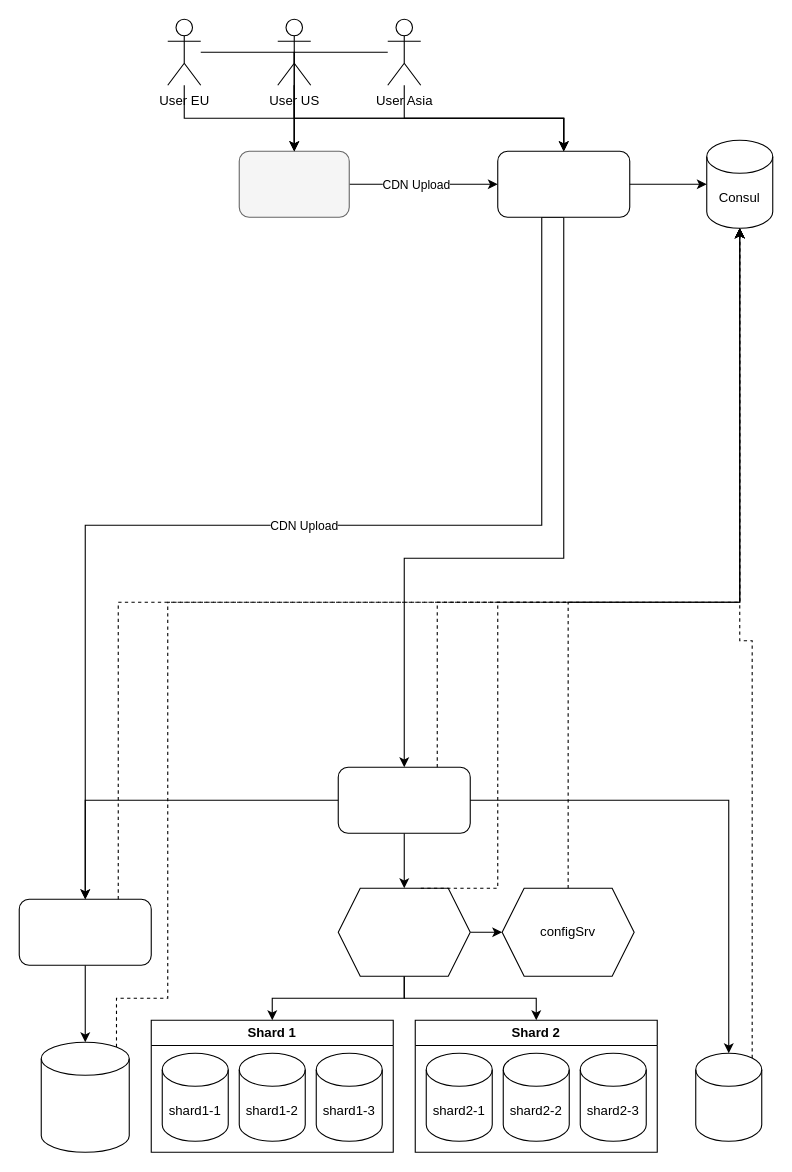
Image size: 792x1172. Some labels were removed from this diagram. The centre of each missing label's shape, as x and y in pixels:
API Gateway: the point at 563,183
CDN: the point at 293,183
pymongo-api: the point at 403,799
redis: the point at 728,1096
router: the point at 403,931
s3 -api: the point at 84,931
Static Storage (S3): the point at 84,1096
